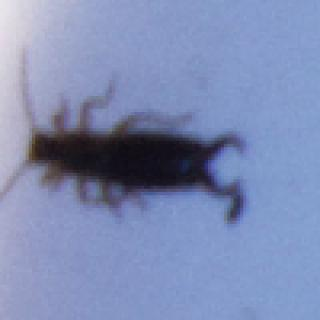earwig: (3, 46, 252, 225)
